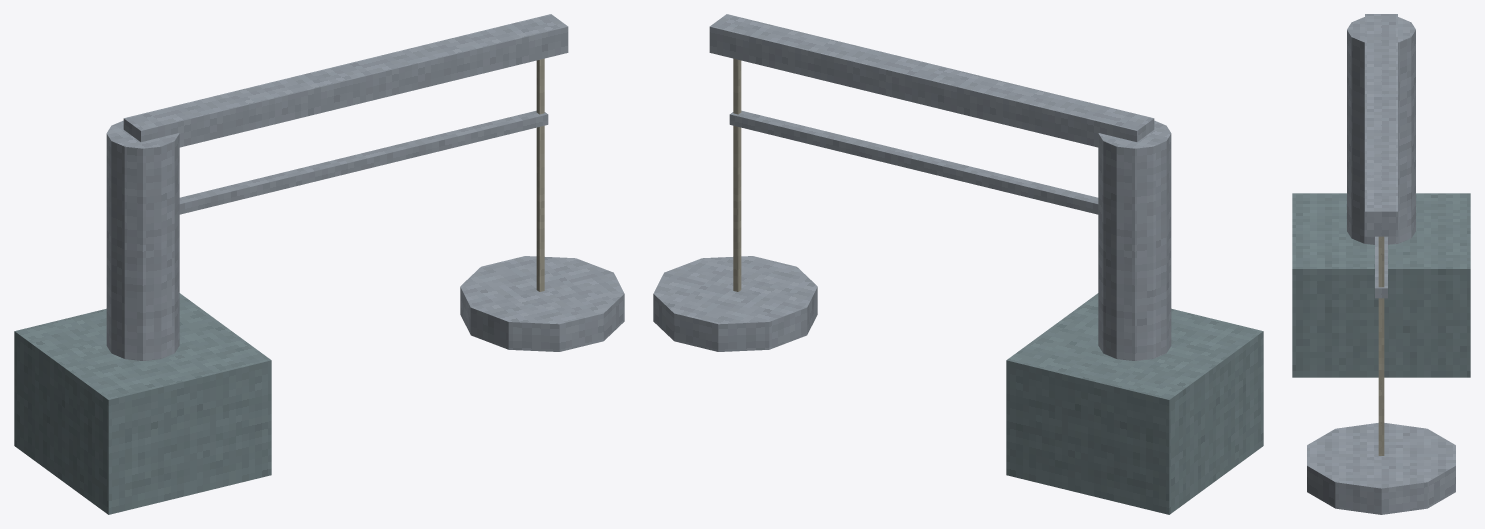
The model's file is level_blockout_ship_net_boom.glb.
The picture shows the model from 3 angles, left to right: view 1: azimuth 30°, elevation 25°; view 2: azimuth 150°, elevation 25°; view 3: azimuth 270°, elevation 25°; orthographic projection. The views are drawn at different scales.
Parts seen in each view (by area): view 1: level_blockout_ship_net_boom; view 2: level_blockout_ship_net_boom; view 3: level_blockout_ship_net_boom.
Part boxes in pixels (x1,y1,x2,y2): level_blockout_ship_net_boom: (14, 14, 624, 514); level_blockout_ship_net_boom: (653, 14, 1263, 514); level_blockout_ship_net_boom: (1292, 14, 1470, 514).
Bounding box in the file's own units: 3.32 × 1.95 × 0.98.
3 materials, 3 textured.
